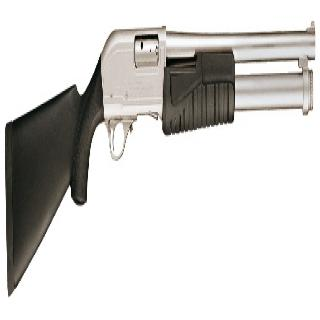gun: (3, 14, 316, 290)
